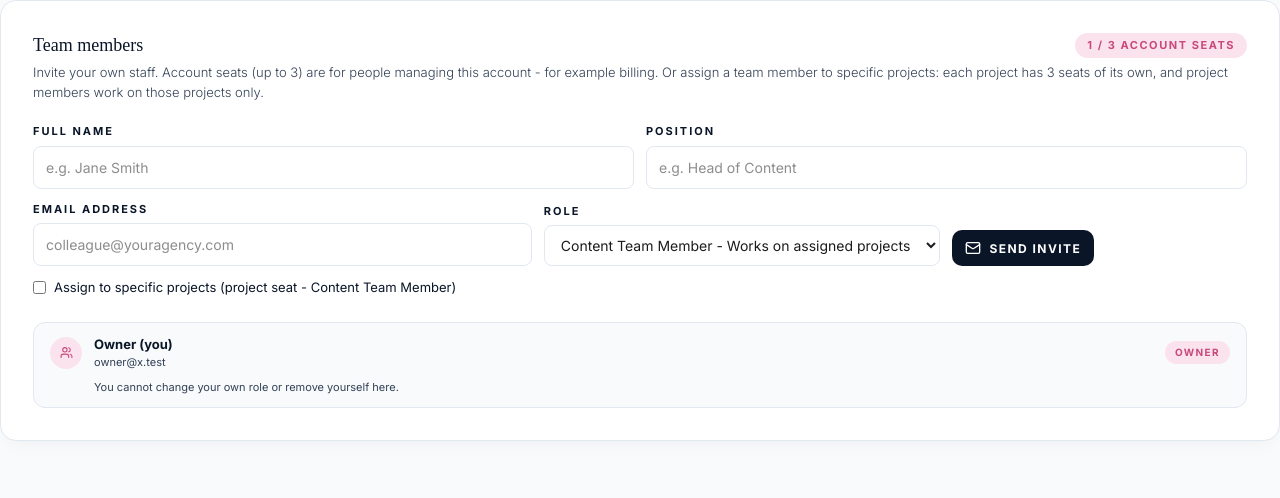
Test case: TeamSection team modes › agency mode: account-seat counter, project seats with per-project counts
Expected: the text "1 / 3 account seats" is shown, [1075, 33, 1247, 58]
Expected: the dropdown labelled "Role" is shown, [544, 225, 940, 266]
# Switch to a project seat: role locks to content, chips show usage.
What coordinates should you click on to do the following:
click the checkbox
I would click on:
 (40, 288)
Its box is [33, 281, 46, 294].
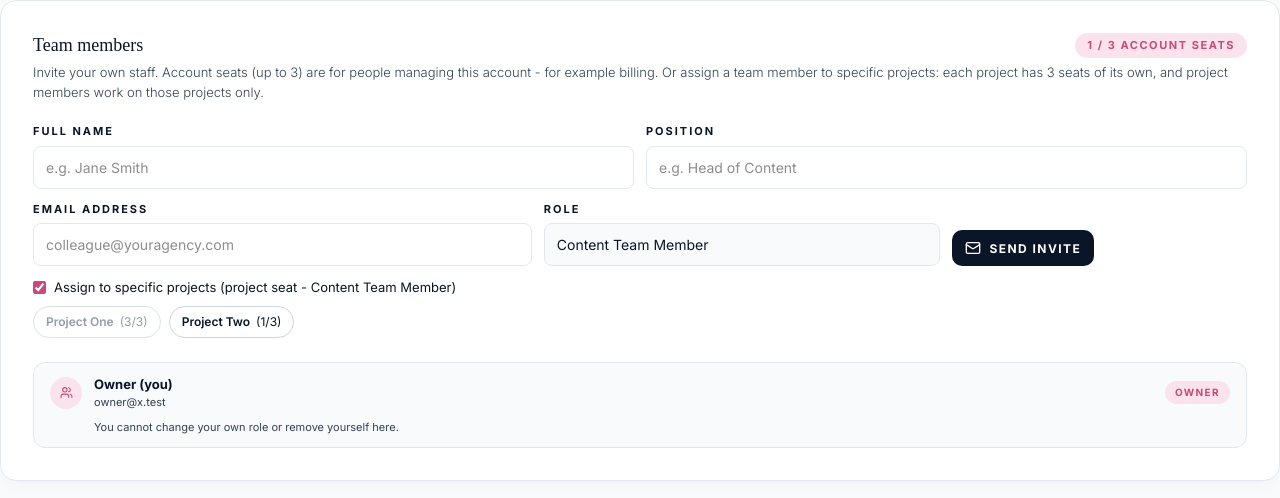
Result: the text "Content Team Member" is shown at [544, 223, 940, 266]
Result: the text "(3/3)" is shown at [120, 313, 148, 331]
Result: the text "(1/3)" is shown at [256, 313, 282, 331]
